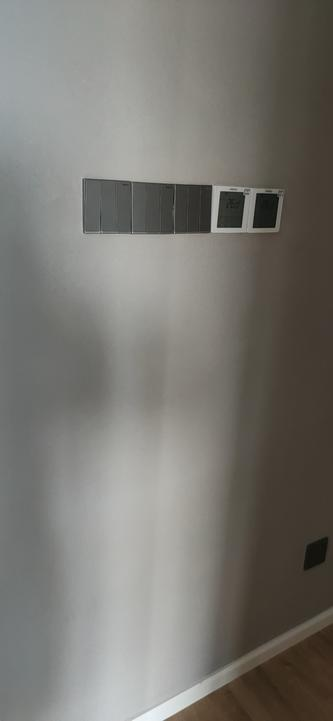switch: (81, 177, 103, 232), (145, 183, 163, 233), (117, 179, 133, 232), (103, 178, 117, 232), (161, 184, 175, 233), (176, 185, 189, 235), (134, 181, 145, 235), (189, 183, 200, 234), (201, 185, 212, 234)
